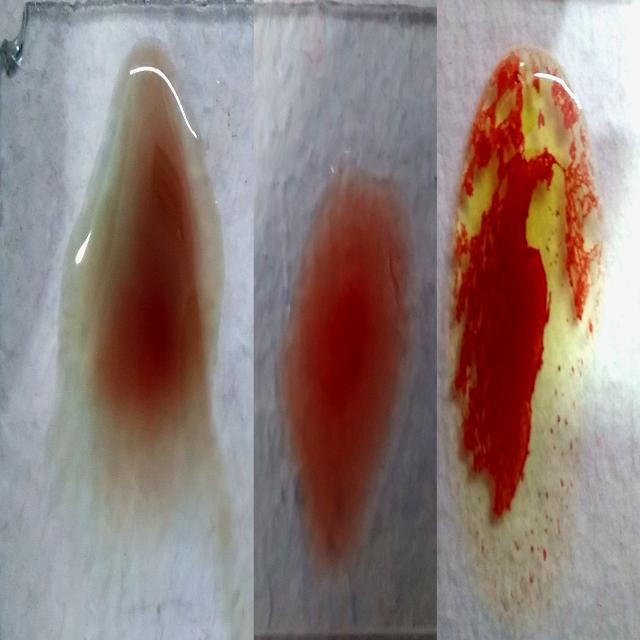B: (441, 32, 603, 612)
